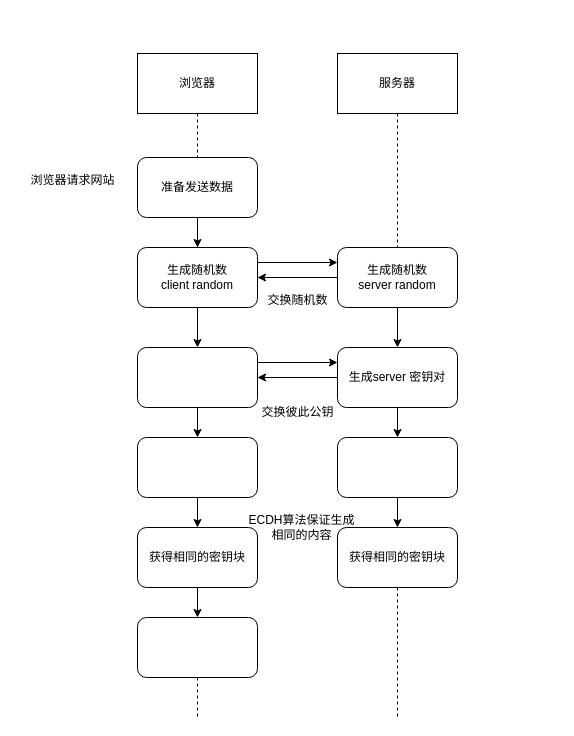
Some shapes in this 574 by 736 pixel diagram are drawn without their labels. Each missing label, with the box of its shape:
准备加密数据: (136, 616, 258, 678)
根据两个随机数+client私钥+server公钥生成密钥块: (136, 436, 258, 498)
根据两个随机数+server私钥+client公钥生成密钥块: (336, 436, 458, 498)
生成client 密钥对: (136, 346, 258, 408)
